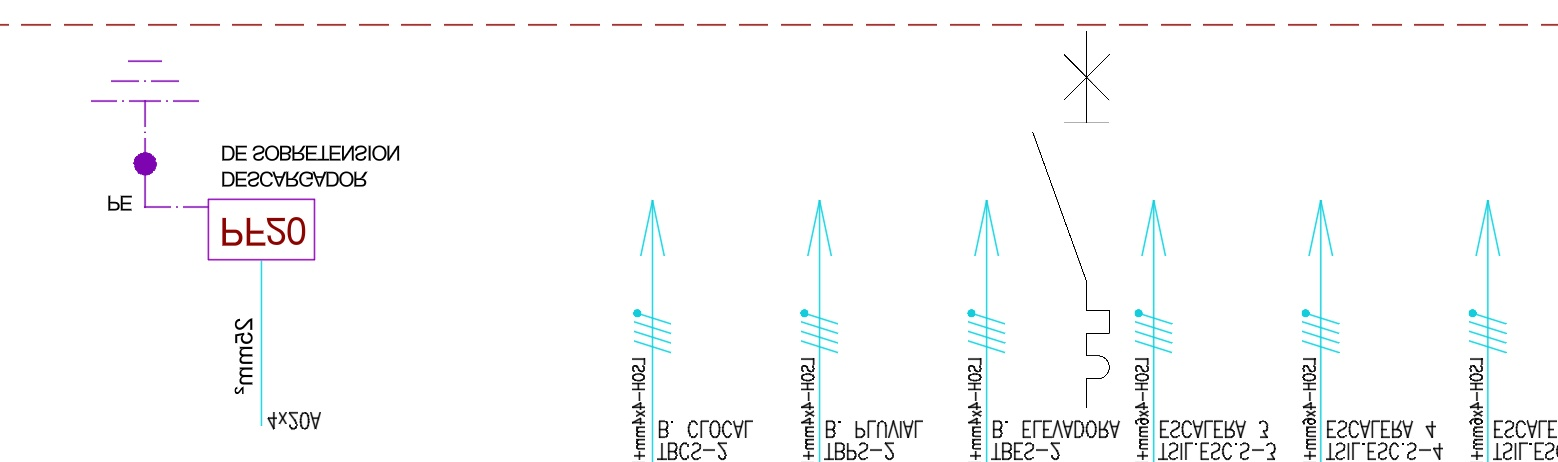interruptor_termomagnetico: (1023, 22, 1119, 417)
